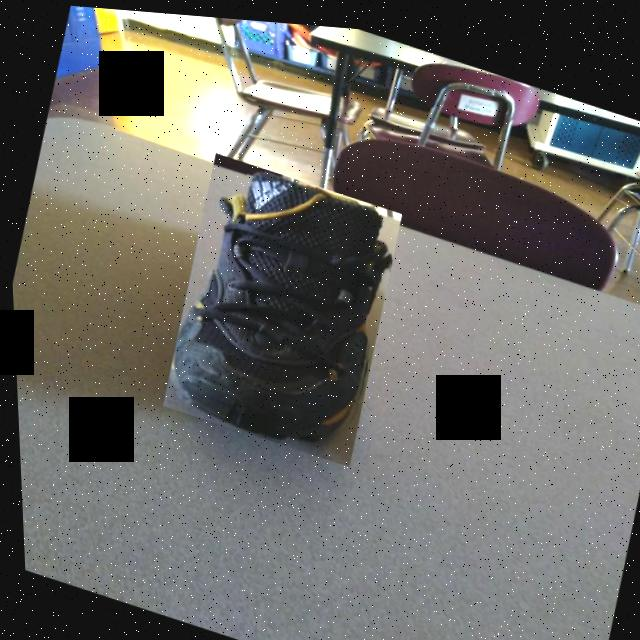shoe: (150, 145, 409, 465)
